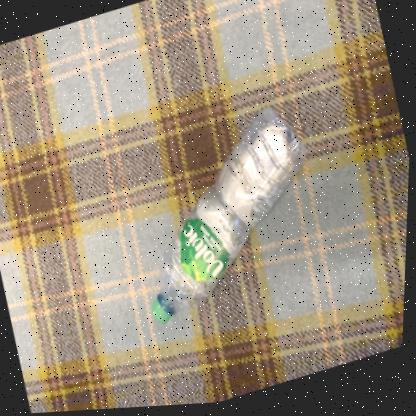Plastic: (154, 110, 307, 326)
